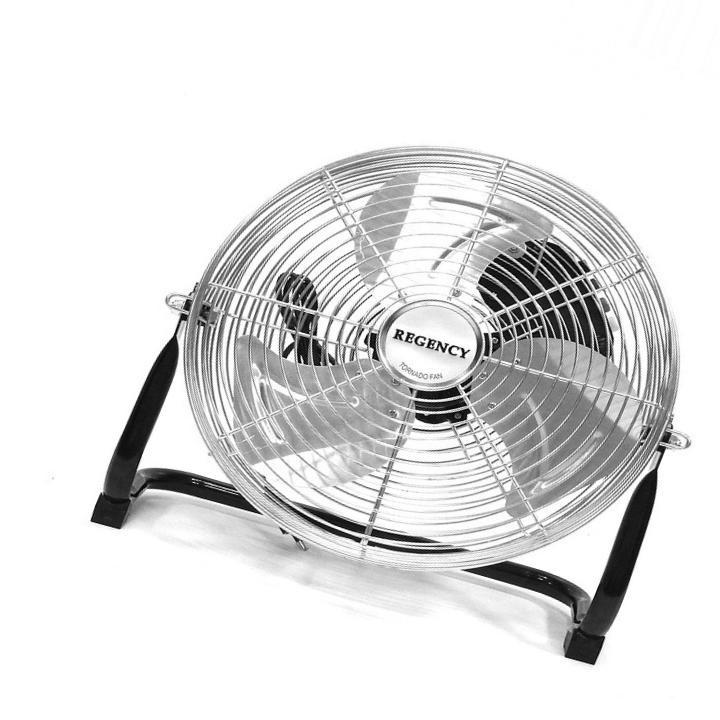fan: (77, 67, 675, 681)
